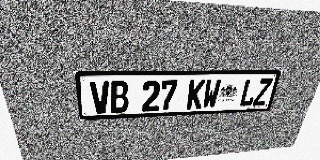2: (142, 80, 160, 111)
7: (159, 80, 178, 111)
B: (110, 81, 129, 113)
K: (186, 79, 206, 109)
L: (238, 79, 259, 107)
V: (89, 81, 111, 114)
W: (201, 79, 221, 109)
Z: (252, 78, 273, 106)
